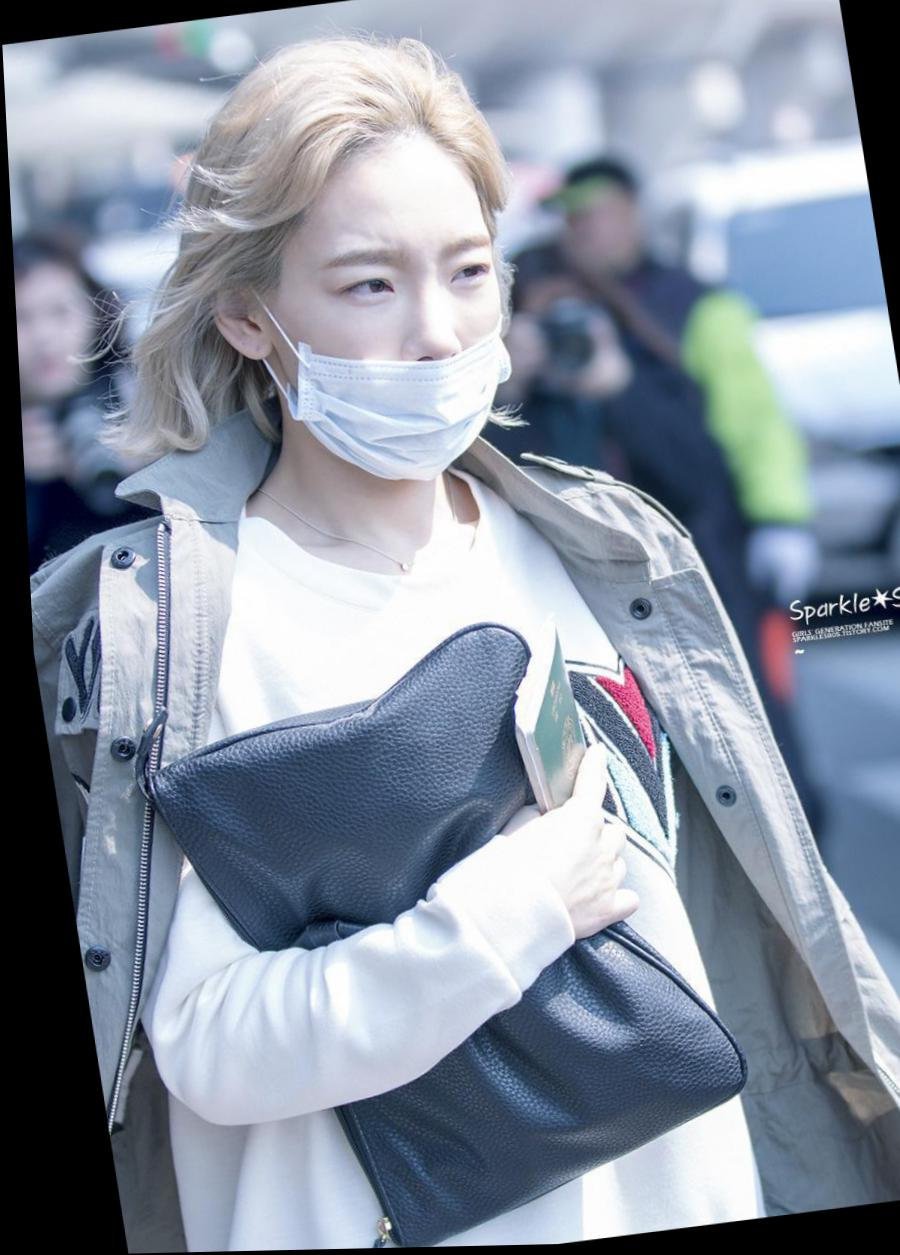NONE: (13, 284, 97, 400)
WRONG: (267, 207, 524, 499)
